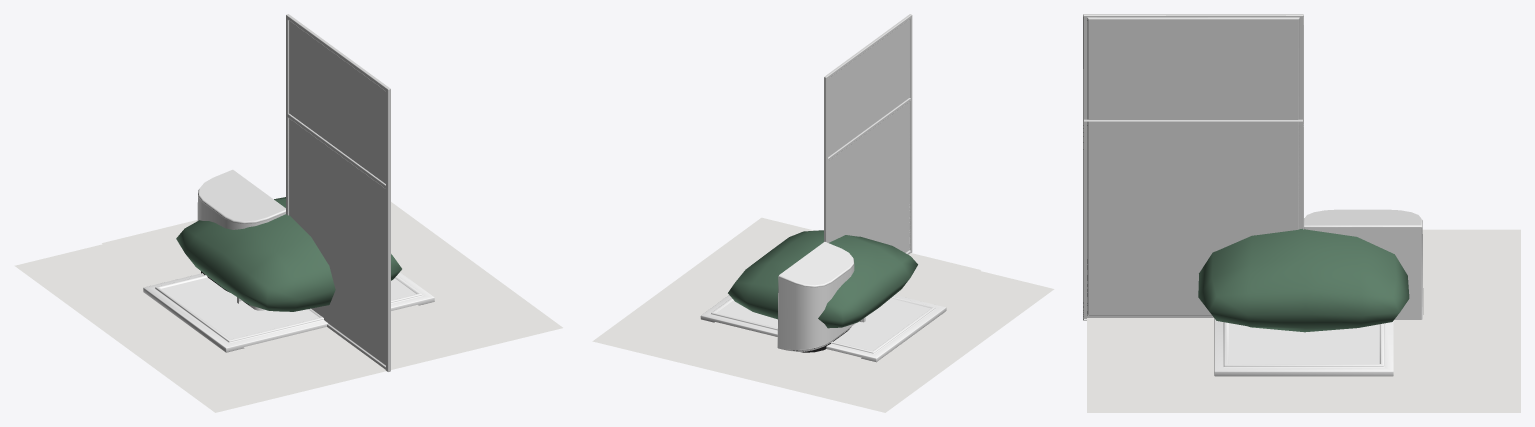
File: Environment_Details.fbx
The picture shows the model from 3 angles, left to right: view 1: azimuth 30°, elevation 25°; view 2: azimuth 150°, elevation 25°; view 3: azimuth 270°, elevation 25°; orthographic projection. The views are drawn at different scales.
Visible parts, largest first — view 1: PosterMuscles, PaintingRectangular, PaintingSquare, PosterSkeleton, Pillow, AirConditioning, PaperDispenserWall; view 2: PosterMuscles, PaintingRectangular, PaintingSquare, PosterSkeleton, Pillow, PaperDispenserWall, AirConditioning; view 3: PaintingRectangular, PaintingSquare, PosterMuscles, Pillow, PosterSkeleton, AirConditioning, PaperDispenserWall.
Part boxes in pixels (x1,y1,x2,y2): PosterMuscles: (14, 202, 562, 412); PaintingRectangular: (286, 14, 390, 370); PaintingSquare: (286, 113, 390, 372); PosterSkeleton: (102, 220, 475, 390); Pillow: (176, 197, 401, 311); AirConditioning: (143, 272, 434, 352); PaperDispenserWall: (197, 169, 285, 292); PosterMuscles: (592, 217, 1054, 412); PaintingRectangular: (824, 14, 912, 251); PaintingSquare: (824, 98, 912, 254); PosterSkeleton: (666, 253, 980, 393); Pillow: (728, 230, 917, 328); PaperDispenserWall: (777, 242, 854, 352); AirConditioning: (700, 295, 946, 362); PaintingRectangular: (1083, 14, 1303, 315); PaintingSquare: (1083, 119, 1303, 320); PosterMuscles: (1087, 229, 1520, 412); Pillow: (1198, 228, 1409, 332); PosterSkeleton: (1087, 274, 1520, 365); AirConditioning: (1214, 318, 1393, 376); PaperDispenserWall: (1304, 209, 1423, 319).
Size of the model in its own units: 1 by 1.01 by 1.01.
